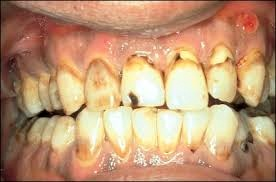Caries: (125, 91, 138, 107)
Tooth Discoloration: (55, 45, 236, 110), (75, 130, 134, 167)
